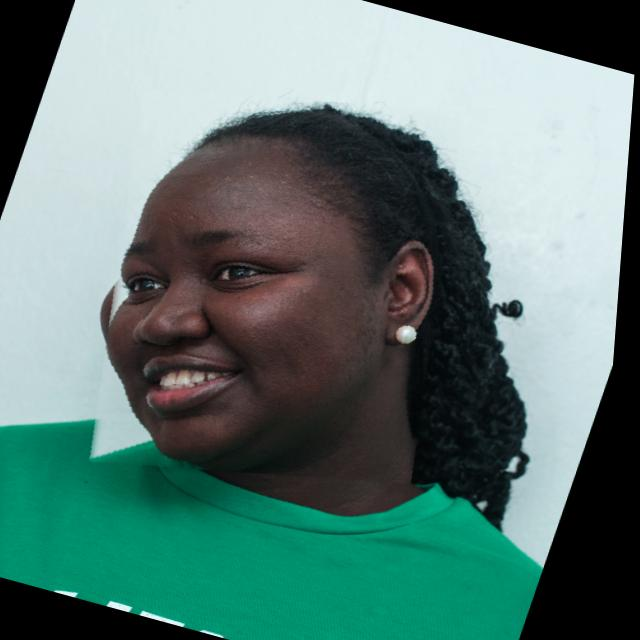happy: (43, 47, 519, 526)
